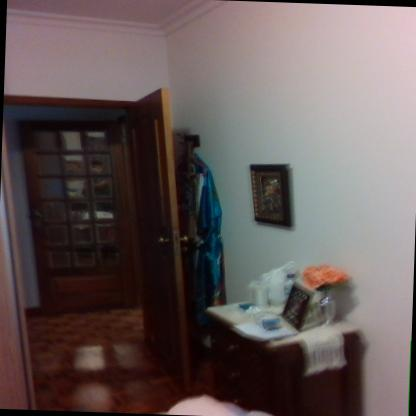open: (0, 68, 198, 406)
